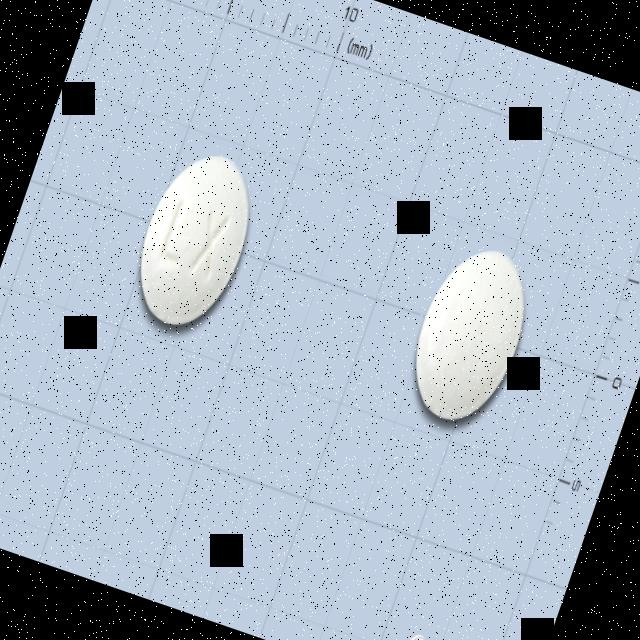Levoxacin -250mg: (120, 140, 270, 340)
